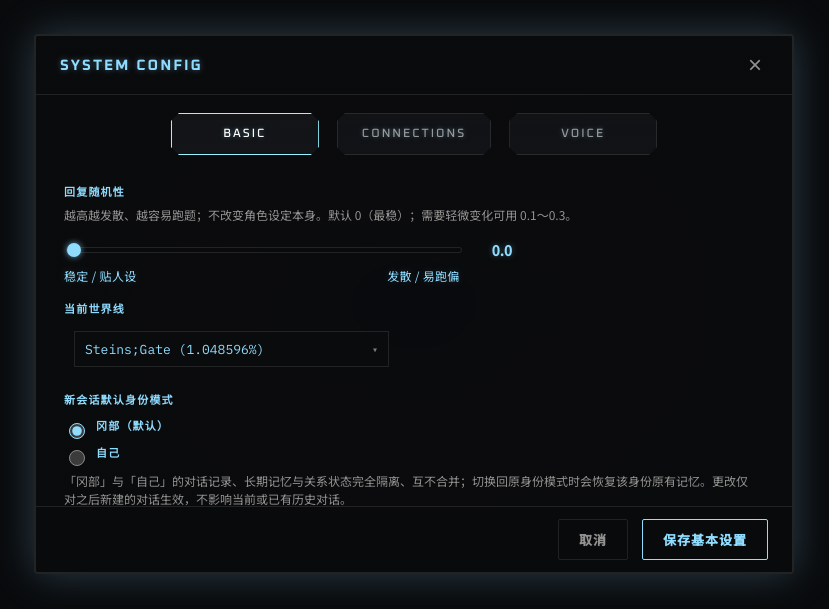
Test case: SYSTEM CONFIG information architecture › keeps session defaults off CONNECTIONS and connection controls off BASIC
Click the button "CONNECTIONS" at (414, 134), box [337,113,491,155]
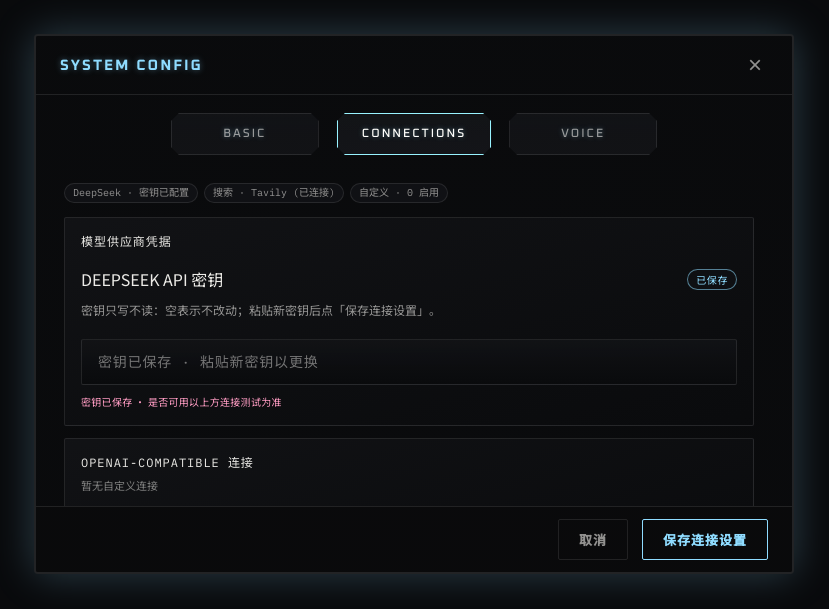
Check: the password field with test id "credential-input" is shown, box [81,339,737,385]
Check: the element with test id "personality-control" is gone
Check: the element with test id "identity-settings" is gone
